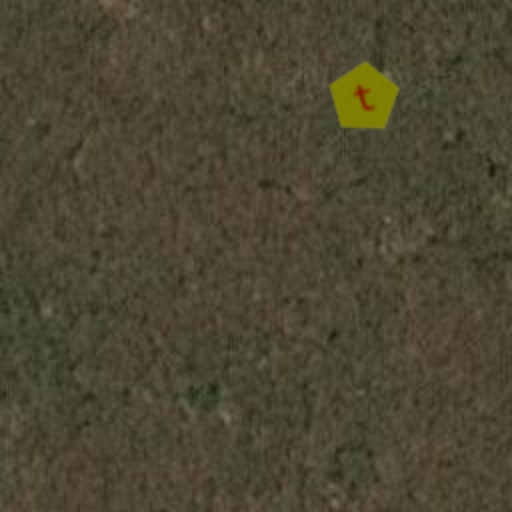pentagon: (318, 52, 410, 144)
